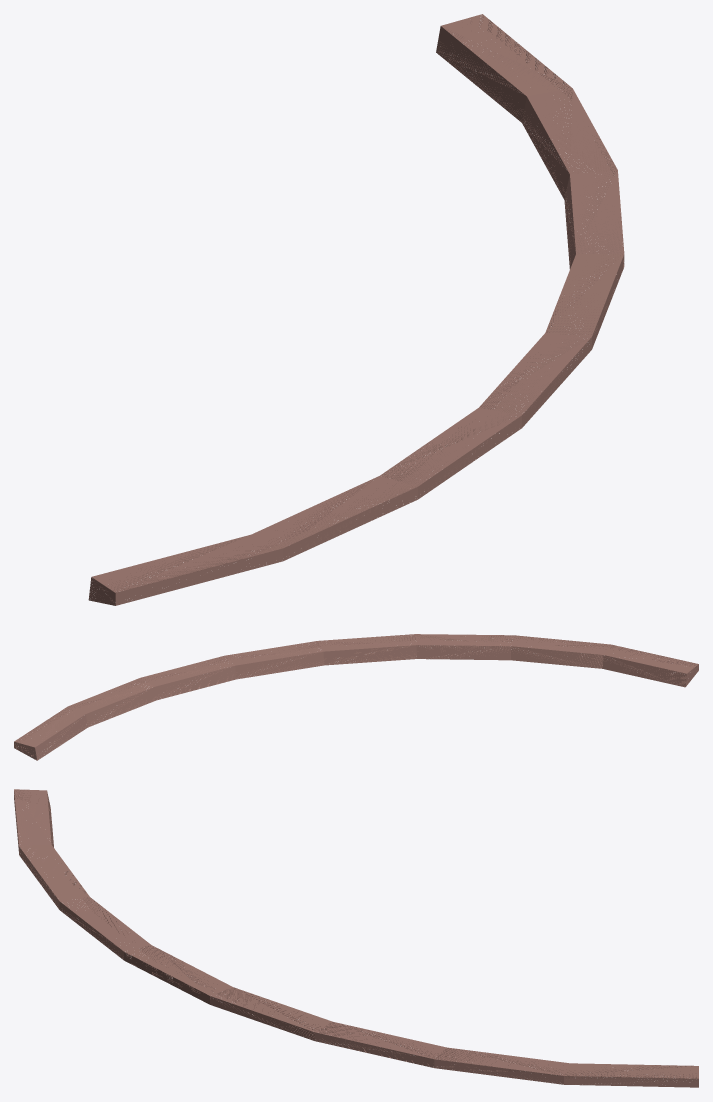
The model's file is SW_ENV_EL_TrackBase_Walkway_SingleInner_Side_B_Collision.fbx.
3 renders of one model, top to bottom at view 1: azimuth 30°, elevation 25°; view 2: azimuth 150°, elevation 25°; view 3: azimuth 270°, elevation 25°, orthographic. The views are drawn at different scales.
Parts seen in each view (by area): view 1: SW_ENV_EL_TrackBase_Walkway_SingleInner_Side_B_Collision; view 2: SW_ENV_EL_TrackBase_Walkway_SingleInner_Side_B_Collision; view 3: SW_ENV_EL_TrackBase_Walkway_SingleInner_Side_B_Collision.
Boxes of the visible parts, left/top/right/bottom form: SW_ENV_EL_TrackBase_Walkway_SingleInner_Side_B_Collision: left=88, top=14, right=624, bottom=605; SW_ENV_EL_TrackBase_Walkway_SingleInner_Side_B_Collision: left=14, top=634, right=698, bottom=760; SW_ENV_EL_TrackBase_Walkway_SingleInner_Side_B_Collision: left=14, top=789, right=698, bottom=1087.
Size of the model in its own units: 2795 by 83.5 by 2795.
